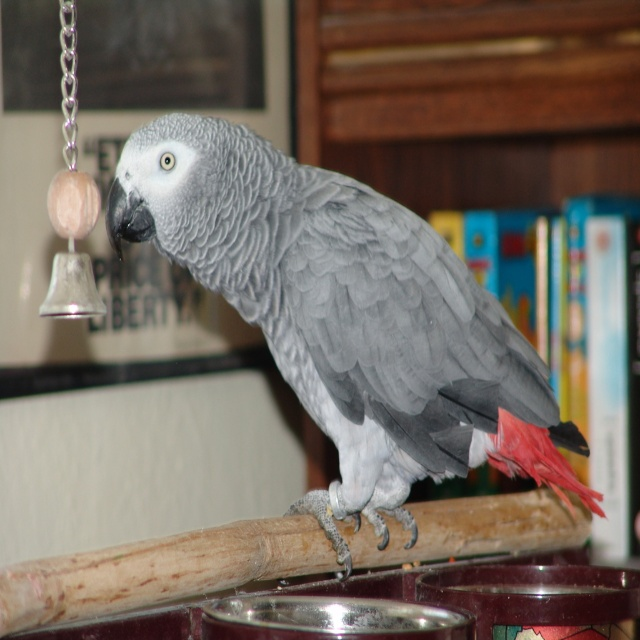Parrot: (106, 113, 610, 583)
